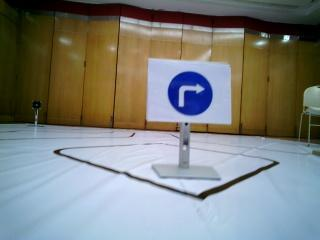right: (150, 59, 232, 125)
